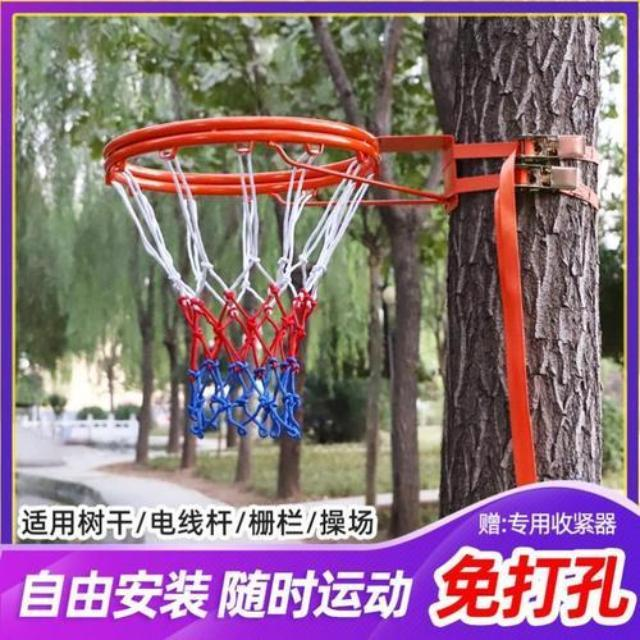rim: (102, 114, 382, 438)
